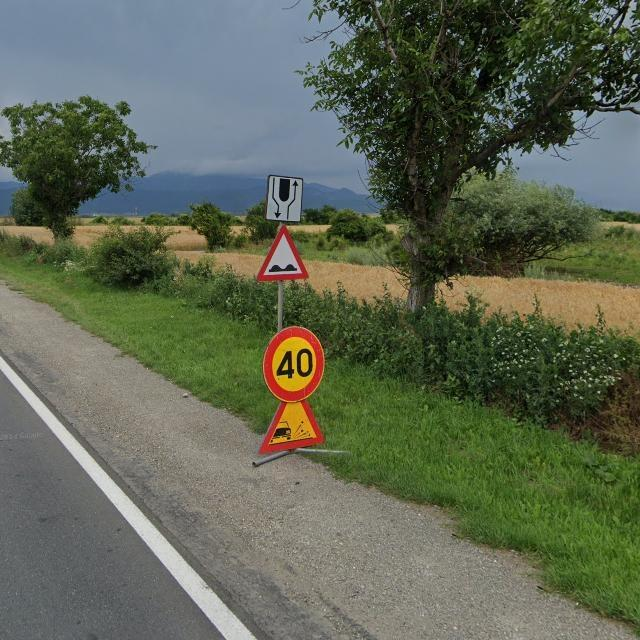forb_speed_over_40: (264, 321, 326, 401)
